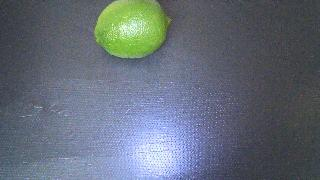EXPORTACION: (94, 0, 171, 59)
